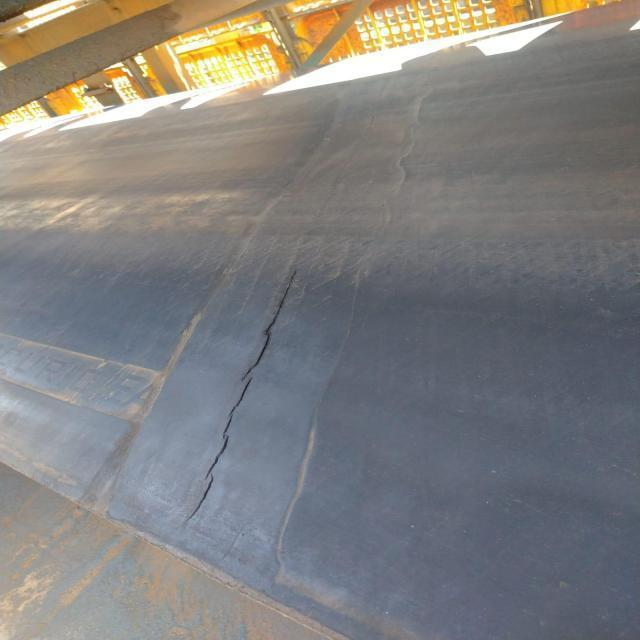Tear: (185, 264, 300, 530)
